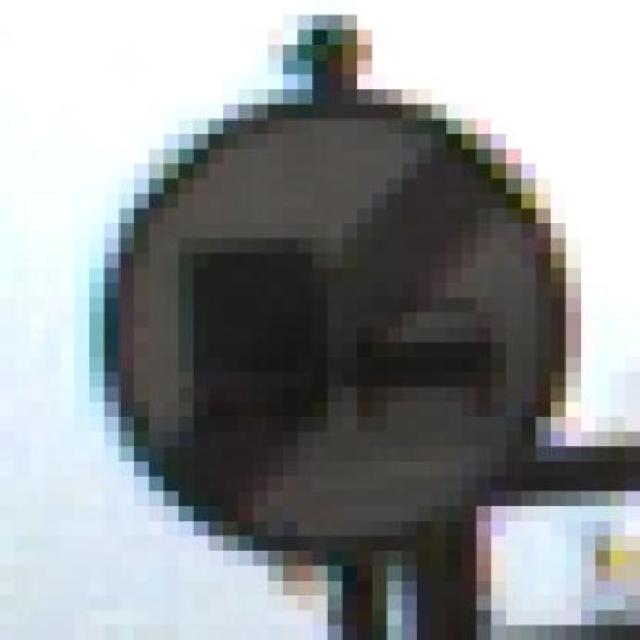Overtaking by trucks is prohibited: (59, 90, 610, 596)
